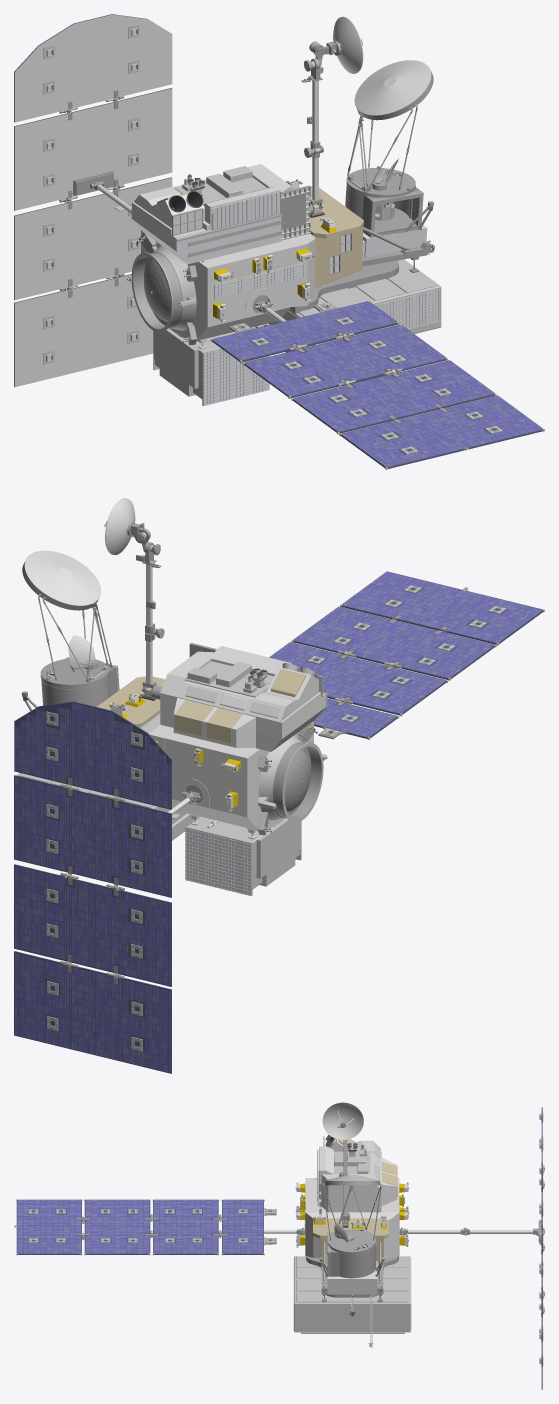
The model's file is gpm.glb.
The picture shows the model from 3 angles, top to bottom: view 1: azimuth 30°, elevation 25°; view 2: azimuth 150°, elevation 25°; view 3: azimuth 270°, elevation 25°; orthographic projection. The views are drawn at different scales.
Visible parts, largest first — view 1: GPM-MainBus; view 2: GPM-MainBus; view 3: GPM-MainBus.
Boxes of the visible parts, bbox=[...] form: GPM-MainBus: bbox=[14, 14, 544, 469]; GPM-MainBus: bbox=[14, 498, 544, 1073]; GPM-MainBus: bbox=[14, 1102, 544, 1389].
Size of the model in its own units: 190 by 268 by 432.
